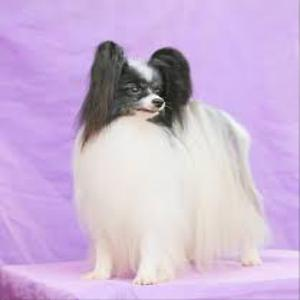yell: (73, 39, 265, 285)
